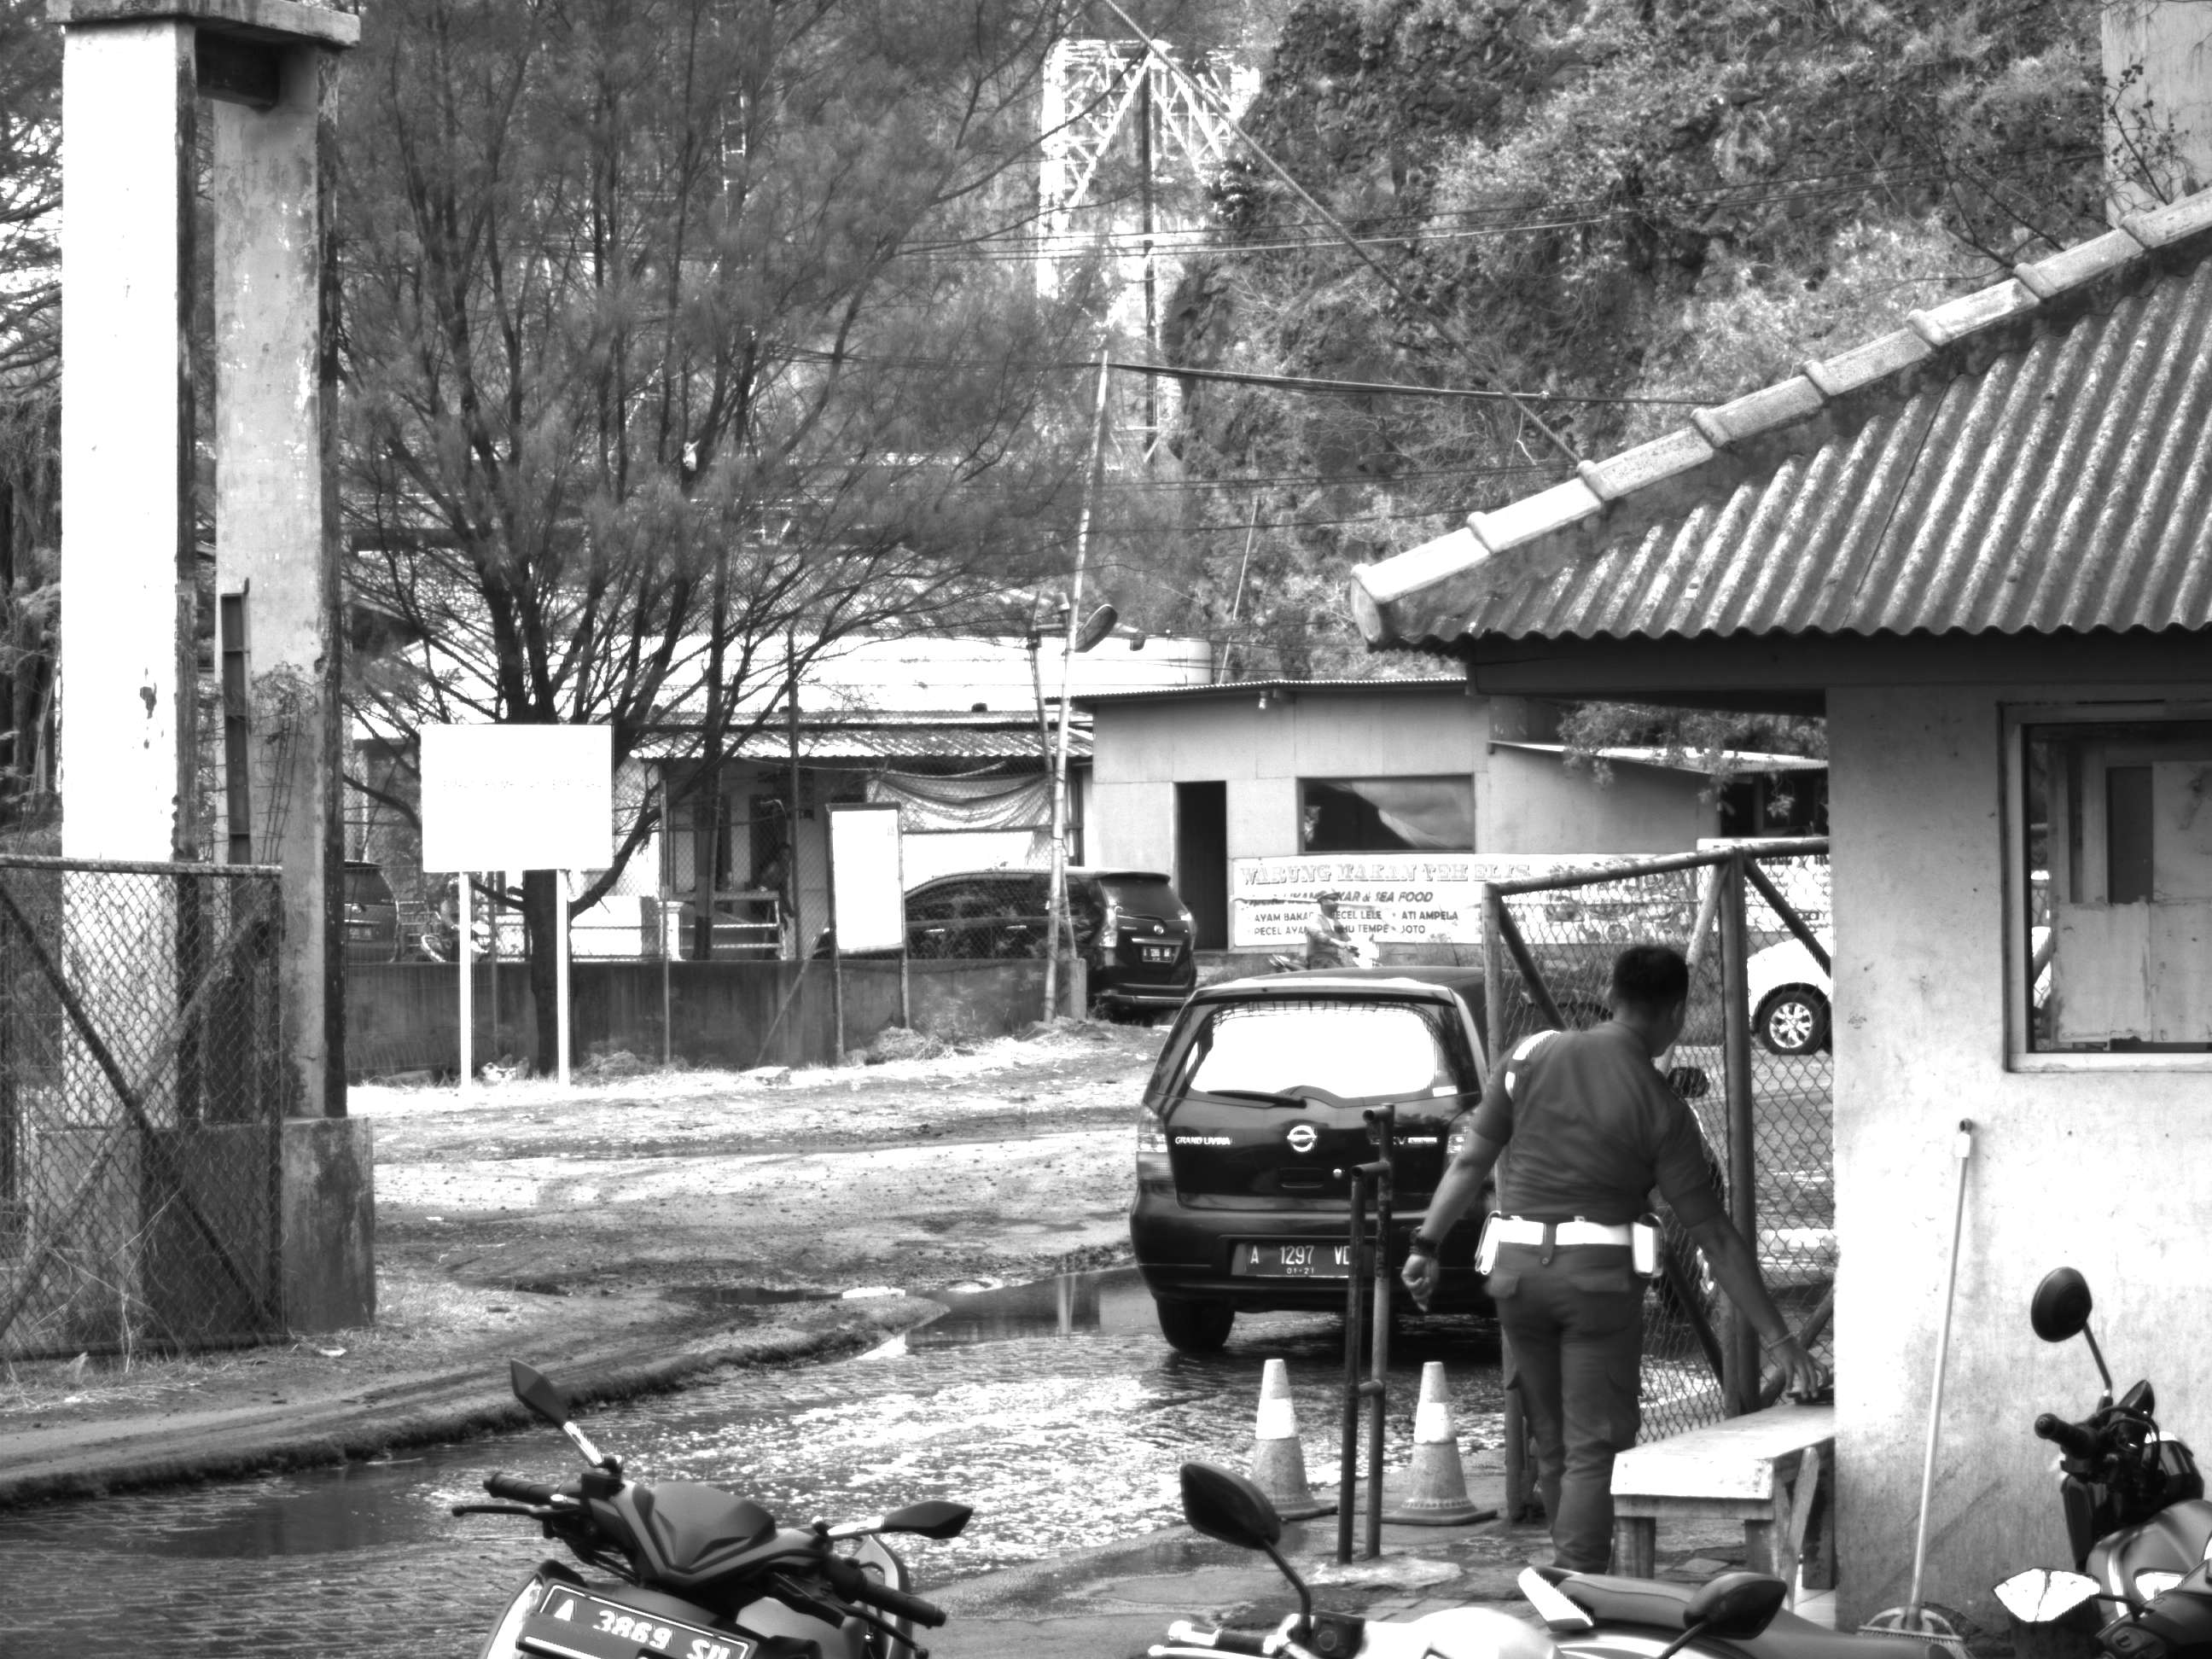day_small_rear: (1131, 969, 1524, 1366)
plate: (1242, 1236, 1367, 1281)
